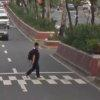crosswalks: (0, 72, 87, 93)
